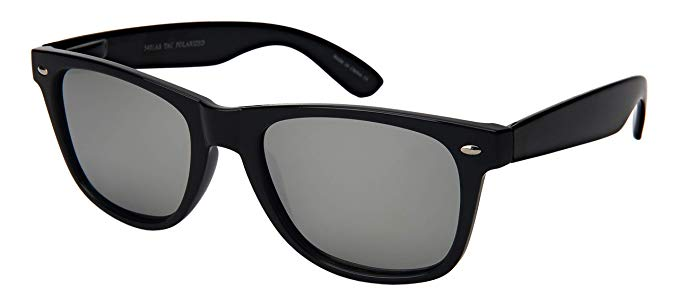sunglasses: (20, 41, 558, 279)
